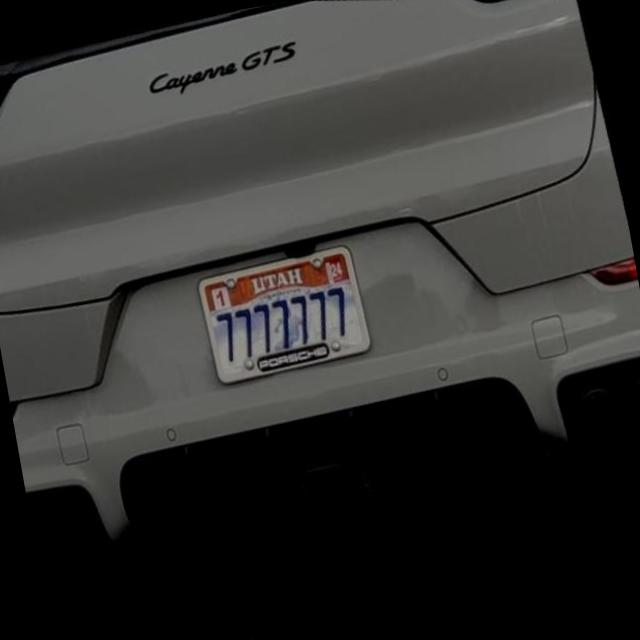LicensePlate: (194, 243, 371, 385)
